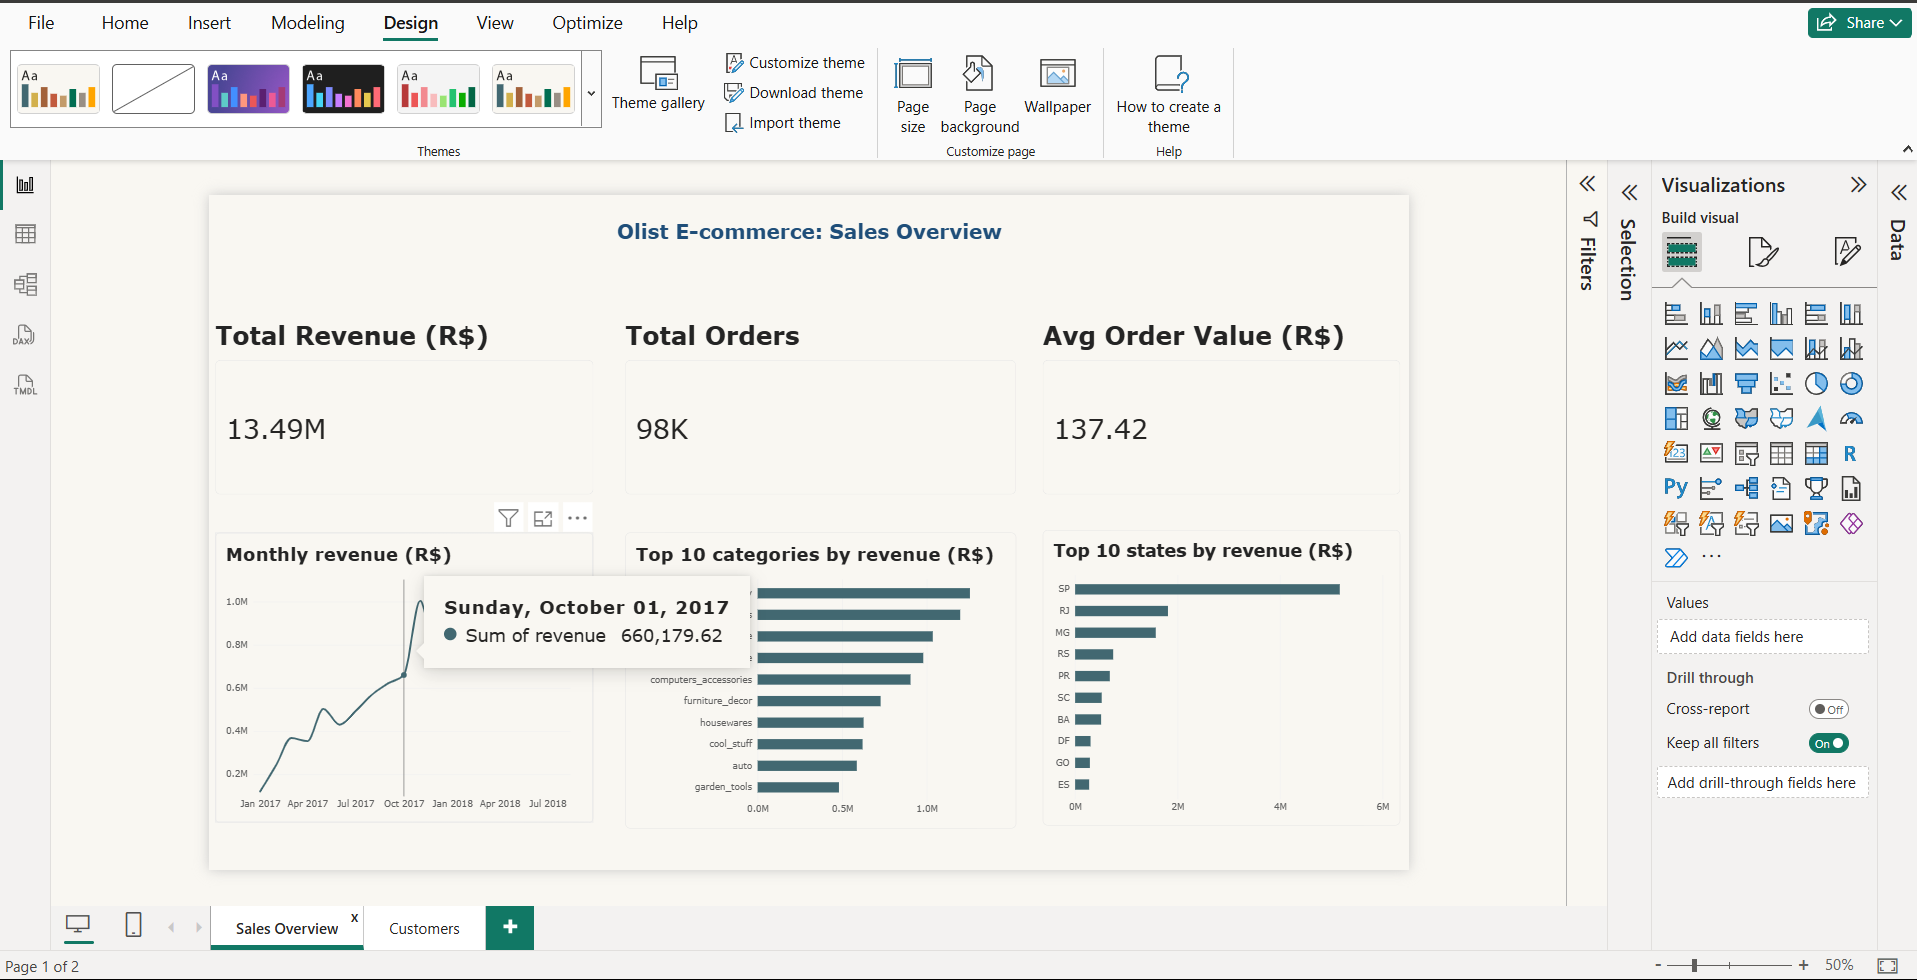

The page's visual inventory and layout, read from the dashboard file:
{"tool":"powerbi","page":{"name":"Sales Overview","canvas":[1920,1080],"ordinal":0},"visuals":[{"type":"cardVisual","title":"Total Revenue (R$)","fields":{"Data":["Sum(public v_kpis.total_revenue)"]},"box":[10.3,199.7,605.1,279.9],"z":0},{"type":"cardVisual","title":"Total Orders","fields":{"Data":["Sum(public v_kpis.total_orders)"]},"box":[666.9,199.7,625.7,279.9],"z":1000},{"type":"cardVisual","title":"Avg Order Value (R$)","fields":{"Data":["Sum(public v_kpis.avg_order_value)"]},"box":[1333.8,199.7,572.2,279.9],"z":2000},{"type":"lineChart","title":"Monthly revenue (R$)","fields":{"Category":["public v_monthly_revenue.month"],"Y":["Sum(public v_monthly_revenue.revenue)"]},"box":[10.3,539.3,605.1,465.2],"z":3000},{"type":"clusteredBarChart","title":"Top 10 categories by revenue (R$)","fields":{"Category":["public v_category_revenue.category"],"Y":["Sum(public v_category_revenue.revenue)"]},"box":[666.9,539.3,625.7,473.4],"z":4000},{"type":"clusteredBarChart","title":"Top 10 states by revenue (R$)","fields":{"Category":["public v_state_revenue.customer_state"],"Y":["Sum(public v_state_revenue.revenue)"]},"box":[1333.8,535.2,572,473],"z":5000},{"type":"textbox","box":[407.5,37,1105.3,80.3],"z":11000}]}

Visuals, with their boxes on the page's 1920x1080 design canvas (x1, y1, x2, y2). These are canvas units, not pixel positions in the 1917x980 screenshot, which may show the page scaled, cropped or inside an application window:
"Total Revenue (R$)" cardVisual: (x1=10, y1=200, x2=615, y2=480)
"Total Orders" cardVisual: (x1=667, y1=200, x2=1293, y2=480)
"Avg Order Value (R$)" cardVisual: (x1=1334, y1=200, x2=1906, y2=480)
"Monthly revenue (R$)" lineChart: (x1=10, y1=539, x2=615, y2=1004)
"Top 10 categories by revenue (R$)" clusteredBarChart: (x1=667, y1=539, x2=1293, y2=1013)
"Top 10 states by revenue (R$)" clusteredBarChart: (x1=1334, y1=535, x2=1906, y2=1008)
textbox: (x1=408, y1=37, x2=1513, y2=117)
